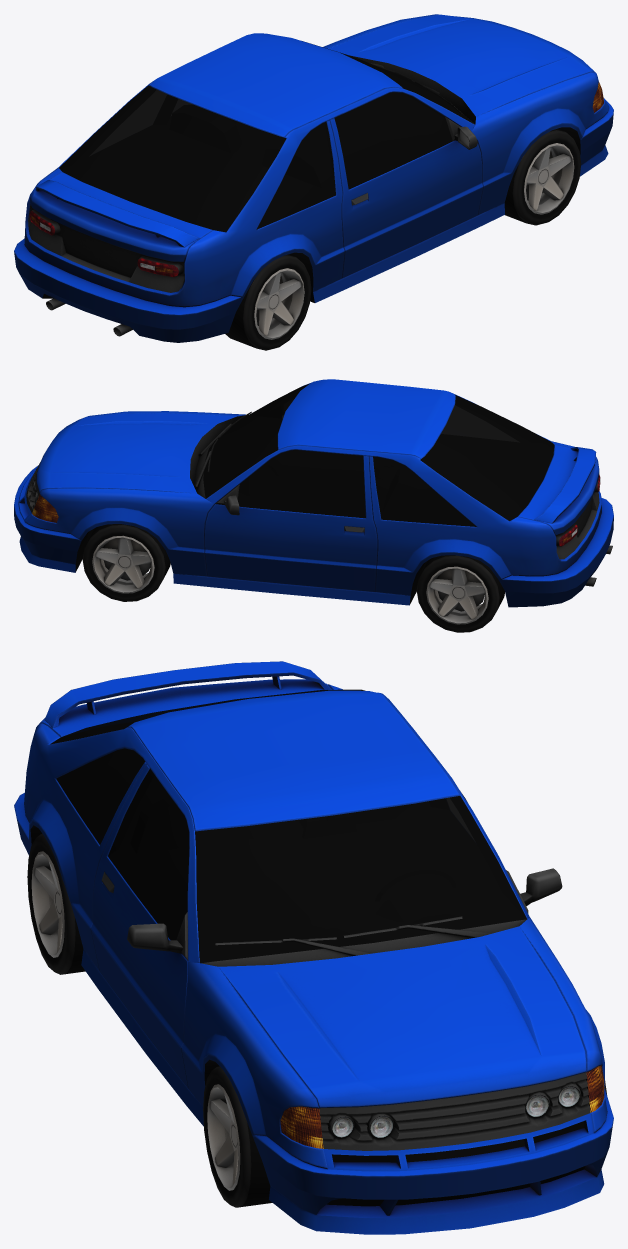
Rendered from simple_car_02.glb.
3 views of the same model, one above another, from view 1: azimuth 30°, elevation 25°; view 2: azimuth 150°, elevation 25°; view 3: azimuth 270°, elevation 25° (orthographic). The views are drawn at different scales.
Parts seen in each view (by area): view 1: Coupe Body, Wheel_F003, Wheel_F002; view 2: Coupe Body, Wheel_F001, Wheel_F; view 3: Coupe Body, Wheel_F002, Wheel_F003.
Part boxes in pixels (box(x1,y1,x2,y2)): Coupe Body: box(14, 14, 613, 342); Wheel_F003: box(225, 254, 311, 350); Wheel_F002: box(504, 128, 581, 225); Coupe Body: box(14, 379, 613, 607); Wheel_F001: box(416, 555, 504, 632); Wheel_F: box(82, 524, 170, 601); Coupe Body: box(14, 661, 613, 1234); Wheel_F002: box(203, 1066, 272, 1207); Wheel_F003: box(27, 833, 85, 974).
Size of the model in its own units: 4.2 by 1.28 by 2.5.
Materials: 4 (3 with a texture image).
